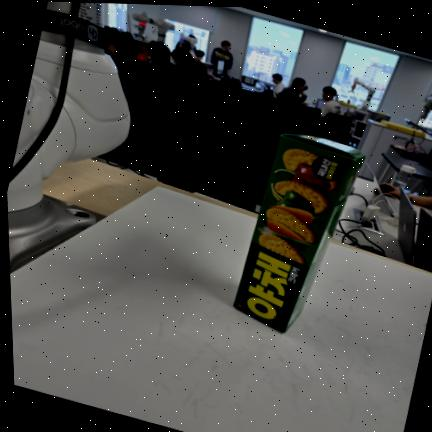cracker_vege: (234, 133, 364, 330)
